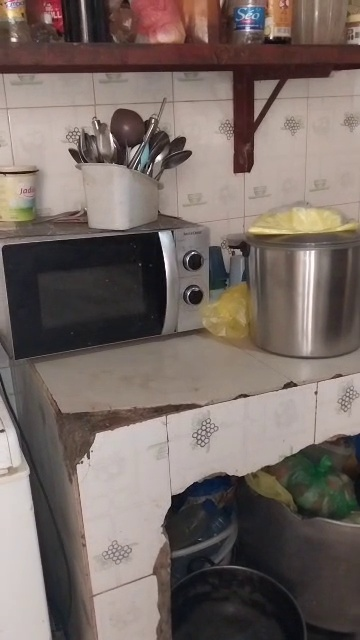microwave: (1, 222, 249, 379)
